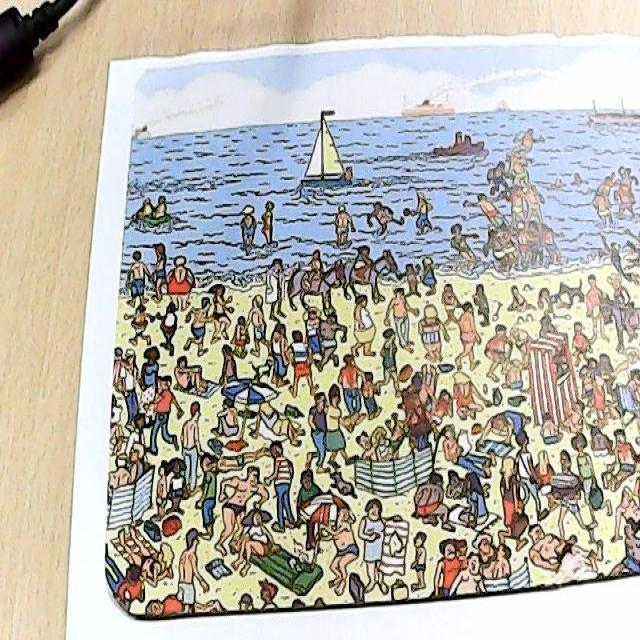waldo: (405, 382, 425, 414)
